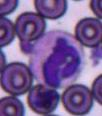N: (29, 30, 85, 88)
